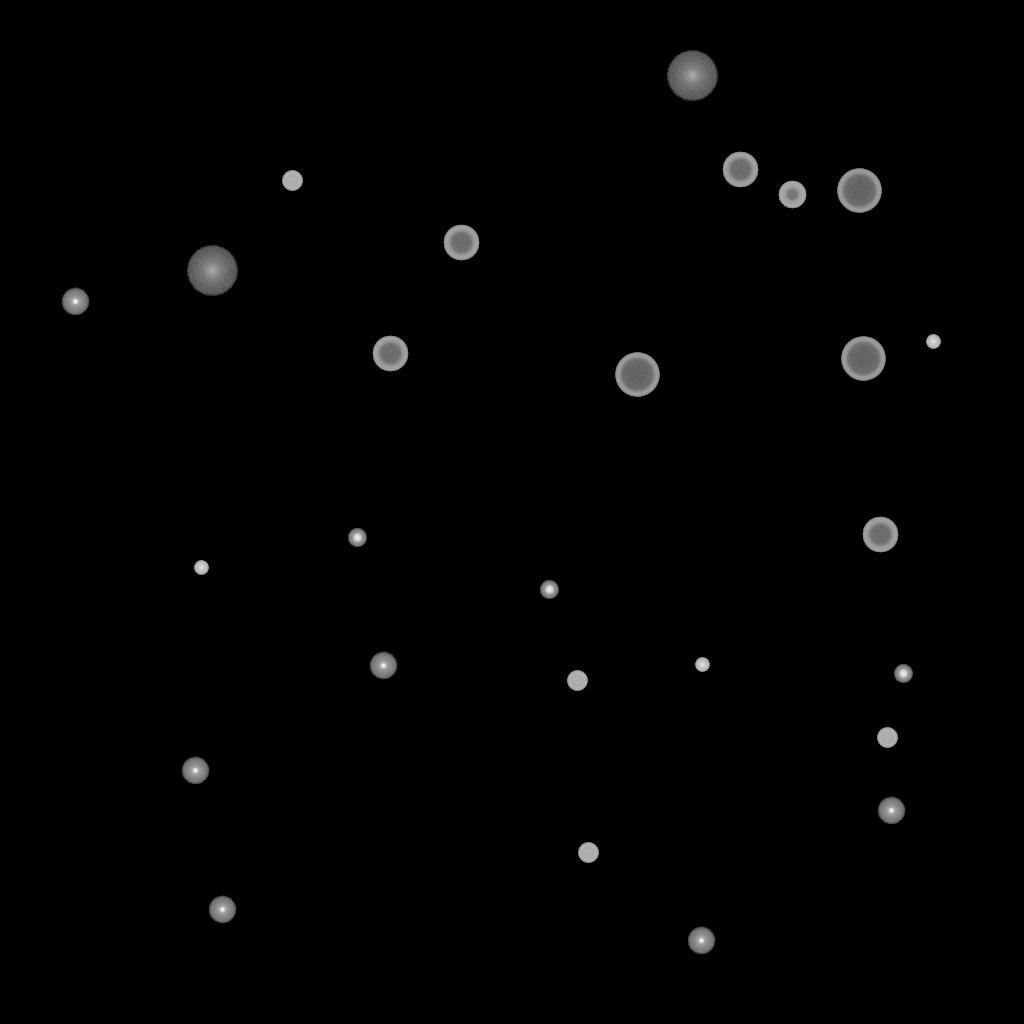depth:-10: (181, 757, 209, 785), (61, 288, 89, 316), (369, 652, 397, 680), (687, 927, 715, 955), (208, 896, 236, 924), (877, 797, 905, 825)
depth:-20: (894, 665, 912, 683), (540, 581, 558, 599), (348, 529, 366, 547)
depth:-30: (926, 335, 940, 349), (194, 561, 208, 575), (695, 658, 709, 672)
depth:-40: (282, 171, 302, 191), (567, 671, 587, 691), (877, 728, 897, 748), (578, 843, 598, 863)
depth:-50: (778, 181, 806, 209)
depth:-60: (372, 336, 408, 372), (722, 152, 758, 188), (862, 517, 898, 553), (443, 225, 479, 261)
depth:-70: (837, 169, 881, 213), (615, 353, 659, 397), (841, 337, 885, 381)
depth:20: (186, 246, 238, 296), (666, 51, 718, 101)
